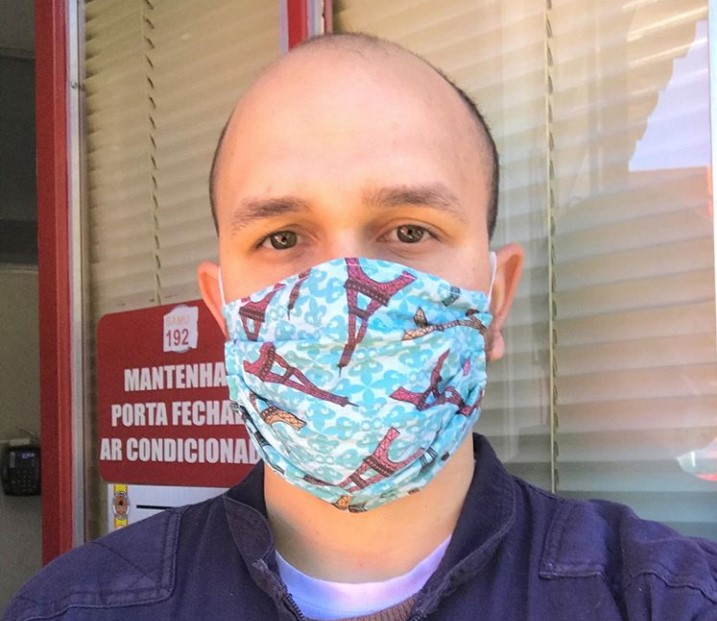face_with_mask: (197, 31, 527, 518)
